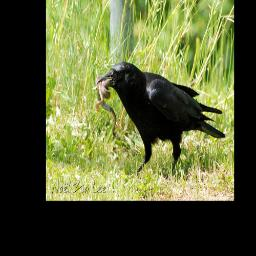Crow: (96, 61, 224, 174)
